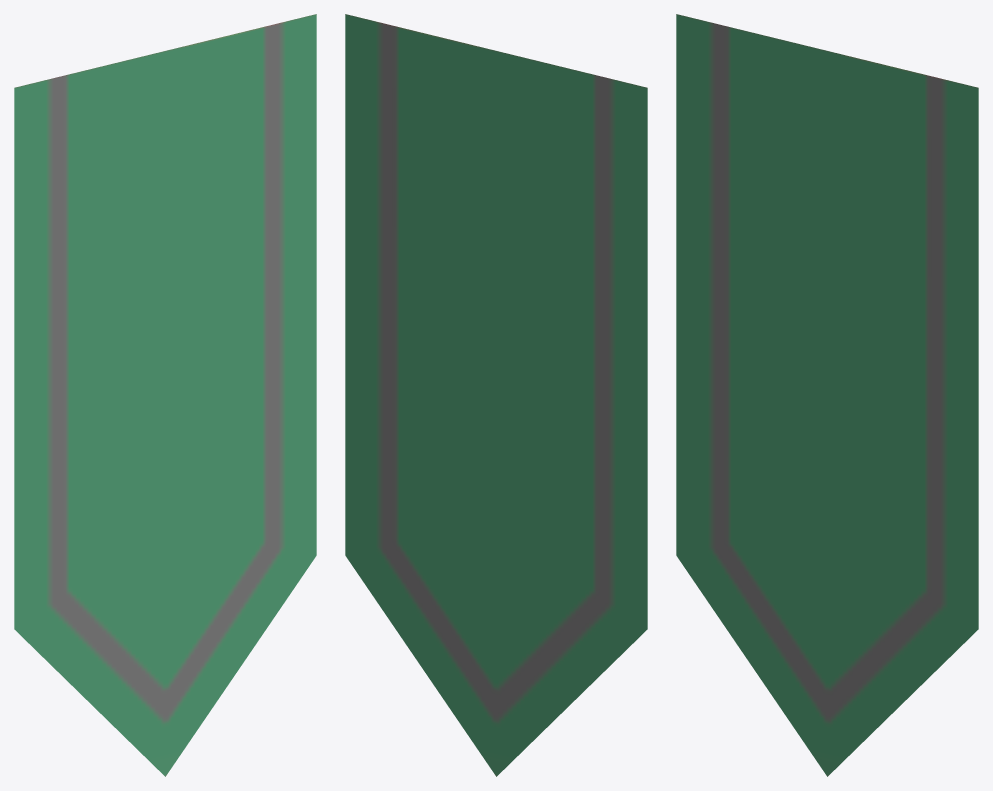
File: Flag02_03.fbx
3 renders of one model, left to right at view 1: azimuth 30°, elevation 25°; view 2: azimuth 150°, elevation 25°; view 3: azimuth 330°, elevation 25°, orthographic.
Parts seen in each view (by area): view 1: Plane022; view 2: Plane022; view 3: Plane022.
Part boxes in pixels (x1,y1,x2,y2): Plane022: [14, 14, 316, 776]; Plane022: [345, 14, 647, 776]; Plane022: [676, 14, 978, 776].
Size of the model in its own units: 91.79 by 211 by 0.000101.
